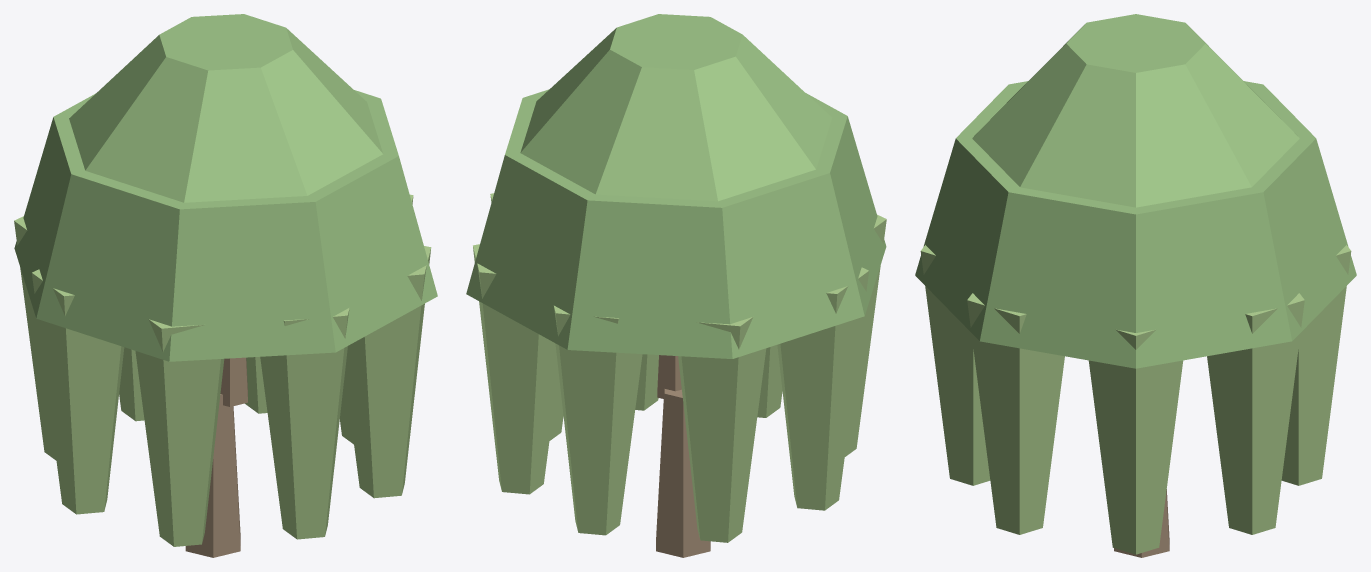
The model's file is flora_14_weeping_willow_lieu_ru_ho_xuan_huong.glb.
The picture shows the model from 3 angles, left to right: view 1: azimuth 30°, elevation 25°; view 2: azimuth 150°, elevation 25°; view 3: azimuth 270°, elevation 25°; orthographic projection.
Visible parts, largest first — view 1: flora_14_weeping_willow_lieu_ru_ho_xuan_huong; view 2: flora_14_weeping_willow_lieu_ru_ho_xuan_huong; view 3: flora_14_weeping_willow_lieu_ru_ho_xuan_huong.
Boxes of the visible parts, x1=… form: flora_14_weeping_willow_lieu_ru_ho_xuan_huong: x1=14, y1=14, x2=437, y2=557; flora_14_weeping_willow_lieu_ru_ho_xuan_huong: x1=466, y1=14, x2=886, y2=557; flora_14_weeping_willow_lieu_ru_ho_xuan_huong: x1=915, y1=14, x2=1356, y2=557.
Bounding box in the file's own units: 7.6 × 9.6 × 7.6.
